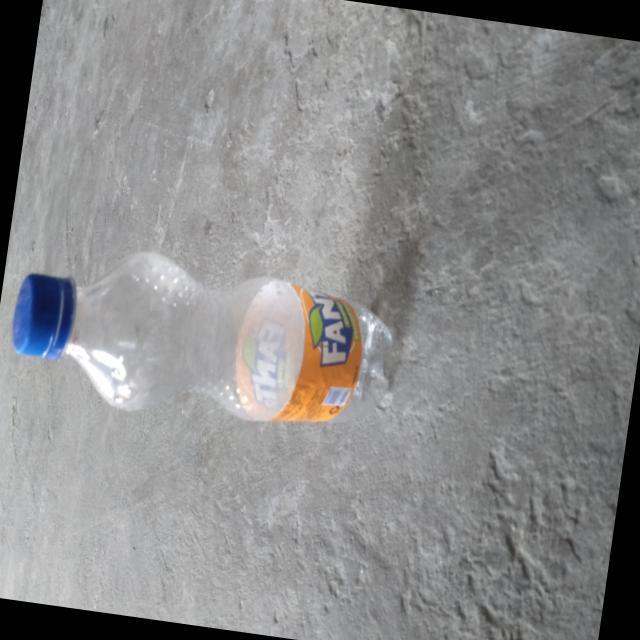good: (0, 226, 414, 464)
